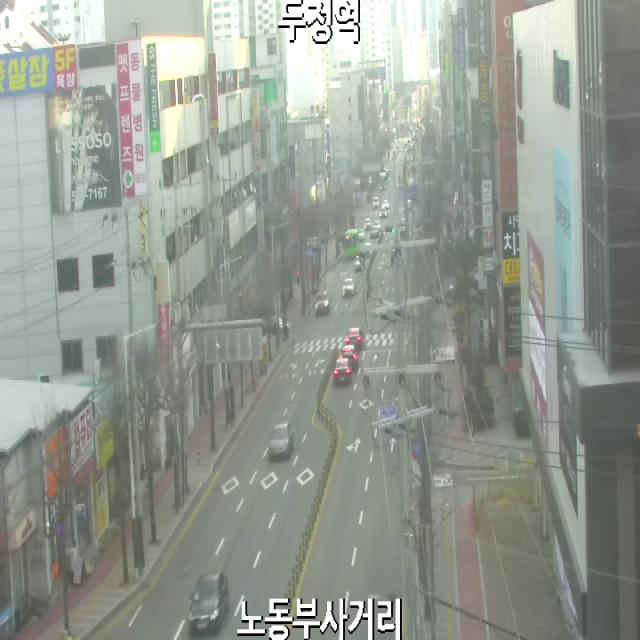Bus: (345, 229, 358, 258), (380, 172, 387, 190)
Car: (188, 571, 229, 636), (269, 422, 294, 462), (334, 357, 352, 386), (339, 345, 359, 370), (346, 328, 364, 350), (314, 292, 330, 316), (342, 278, 355, 298), (354, 255, 365, 273), (363, 242, 372, 256), (357, 228, 366, 240), (364, 217, 372, 230), (370, 227, 379, 238), (379, 208, 387, 219), (373, 220, 382, 229), (373, 196, 379, 208), (382, 200, 389, 209)
